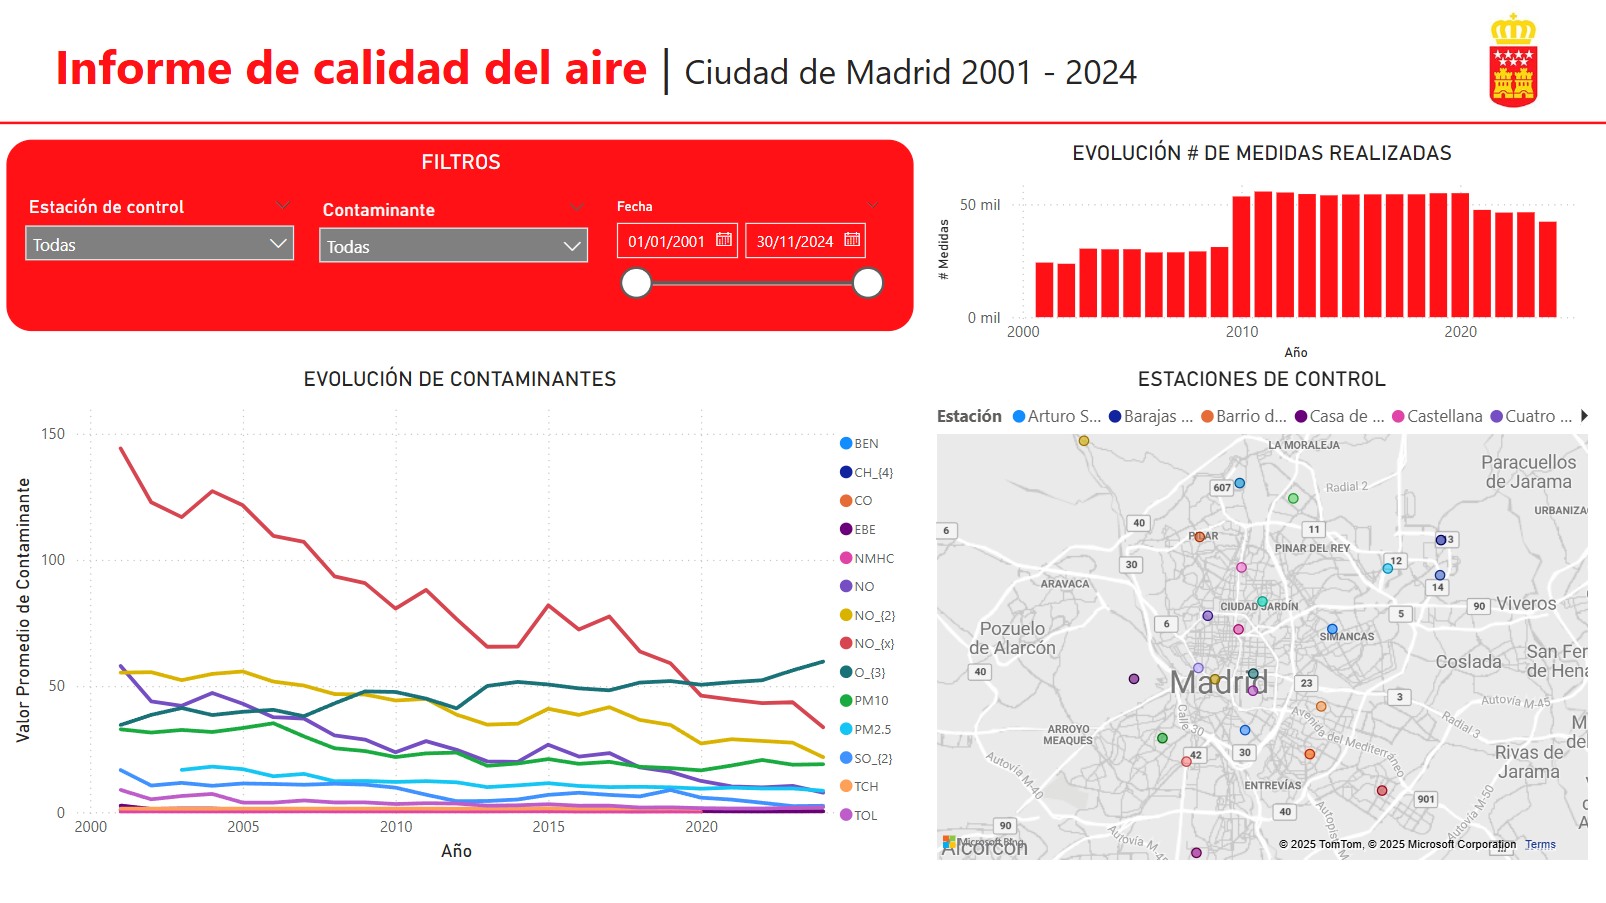

The page's visual inventory and layout, read from the dashboard file:
{"tool":"powerbi","page":{"name":"Dashboard","canvas":[1280,720],"ordinal":0},"visuals":[{"type":"textbox","title":"FILTROS","box":[6.3,111.7,720,151.7],"z":0},{"type":"lineChart","title":"EVOLUCIÓN DE CONTAMINANTES","fields":{"Y":["Avg(Calidad del aire.Valor)"],"Series":["Contaminantes.Abrevia."],"Category":["Calidad del aire.Fecha Jerarquia.ANO","Calidad del aire.Fecha Jerarquia.MES","Calidad del aire.Fecha Jerarquia.DIA"]},"box":[6.7,291.7,720,396.7],"z":2000},{"type":"textbox","box":[0,21.7,965,76.7],"z":3000},{"type":"image","box":[1156.7,0,93.3,98.3],"z":4000},{"type":"shape","box":[0,85,1280,26.7],"z":5000},{"type":"slicer","fields":{"Values":["Estaciones de Control.ESTACION"]},"box":[11.5,151.4,233.3,98.3],"z":6000},{"type":"slicer","fields":{"Values":["Calidad del aire.FECHA"]},"box":[477.9,153.3,233.3,98.3],"z":7000},{"type":"slicer","fields":{"Values":["Contaminantes.Abrevia."]},"box":[244.6,153.3,233.3,98.3],"z":8000},{"type":"clusteredColumnChart","title":"EVOLUCIÓN # DE MEDIDAS REALIZADAS","fields":{"Category":["Calidad del aire.Fecha Jerarquia.Año","Calidad del aire.Fecha Jerarquia.Mes","Calidad del aire.Fecha Jerarquia.Día"],"Y":["CountNonNull(Calidad del aire.Valor)"]},"box":[740,111.7,526.7,180],"z":9000},{"type":"map","title":"ESTACIONES DE CONTROL","fields":{"Y":["Estaciones de Control.LATITUD"],"X":["Estaciones de Control.LONGITUD"],"Series":["Estaciones de Control.Estación"]},"box":[740,291.7,526.7,396.7],"z":9500}]}

Visuals, with their boxes in screenshot pixels (x1, y1, x2, y2), scaled from the page's 1280x720 canvas onto the 1606x903 screenshot:
"FILTROS" textbox: <region>8, 140, 911, 330</region>
"EVOLUCIÓN DE CONTAMINANTES" lineChart: <region>8, 366, 912, 863</region>
textbox: <region>0, 27, 1211, 123</region>
image: <region>1451, 0, 1568, 123</region>
shape: <region>0, 107, 1605, 140</region>
slicer - Estaciones de Control.ESTACION: <region>14, 190, 307, 313</region>
slicer - Calidad del aire.FECHA: <region>600, 192, 892, 316</region>
slicer - Contaminantes.Abrevia.: <region>307, 192, 600, 316</region>
"EVOLUCIÓN # DE MEDIDAS REALIZADAS" clusteredColumnChart: <region>928, 140, 1589, 366</region>
"ESTACIONES DE CONTROL" map: <region>928, 366, 1589, 863</region>
